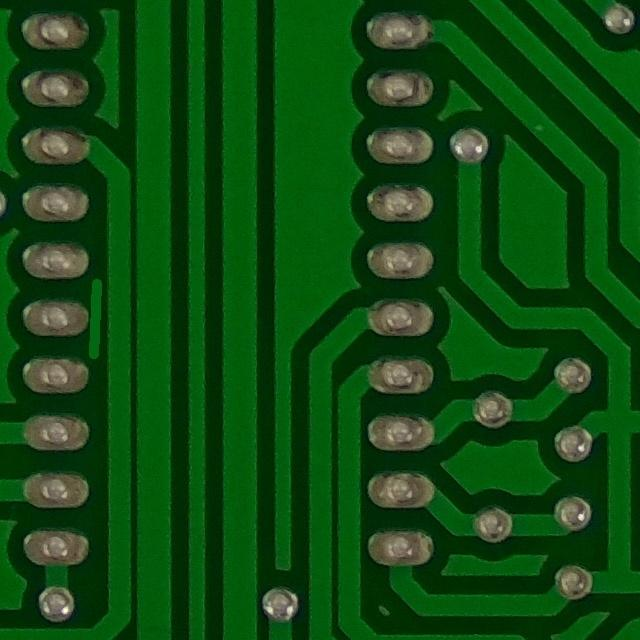spurious_copper: (76, 271, 115, 368)
